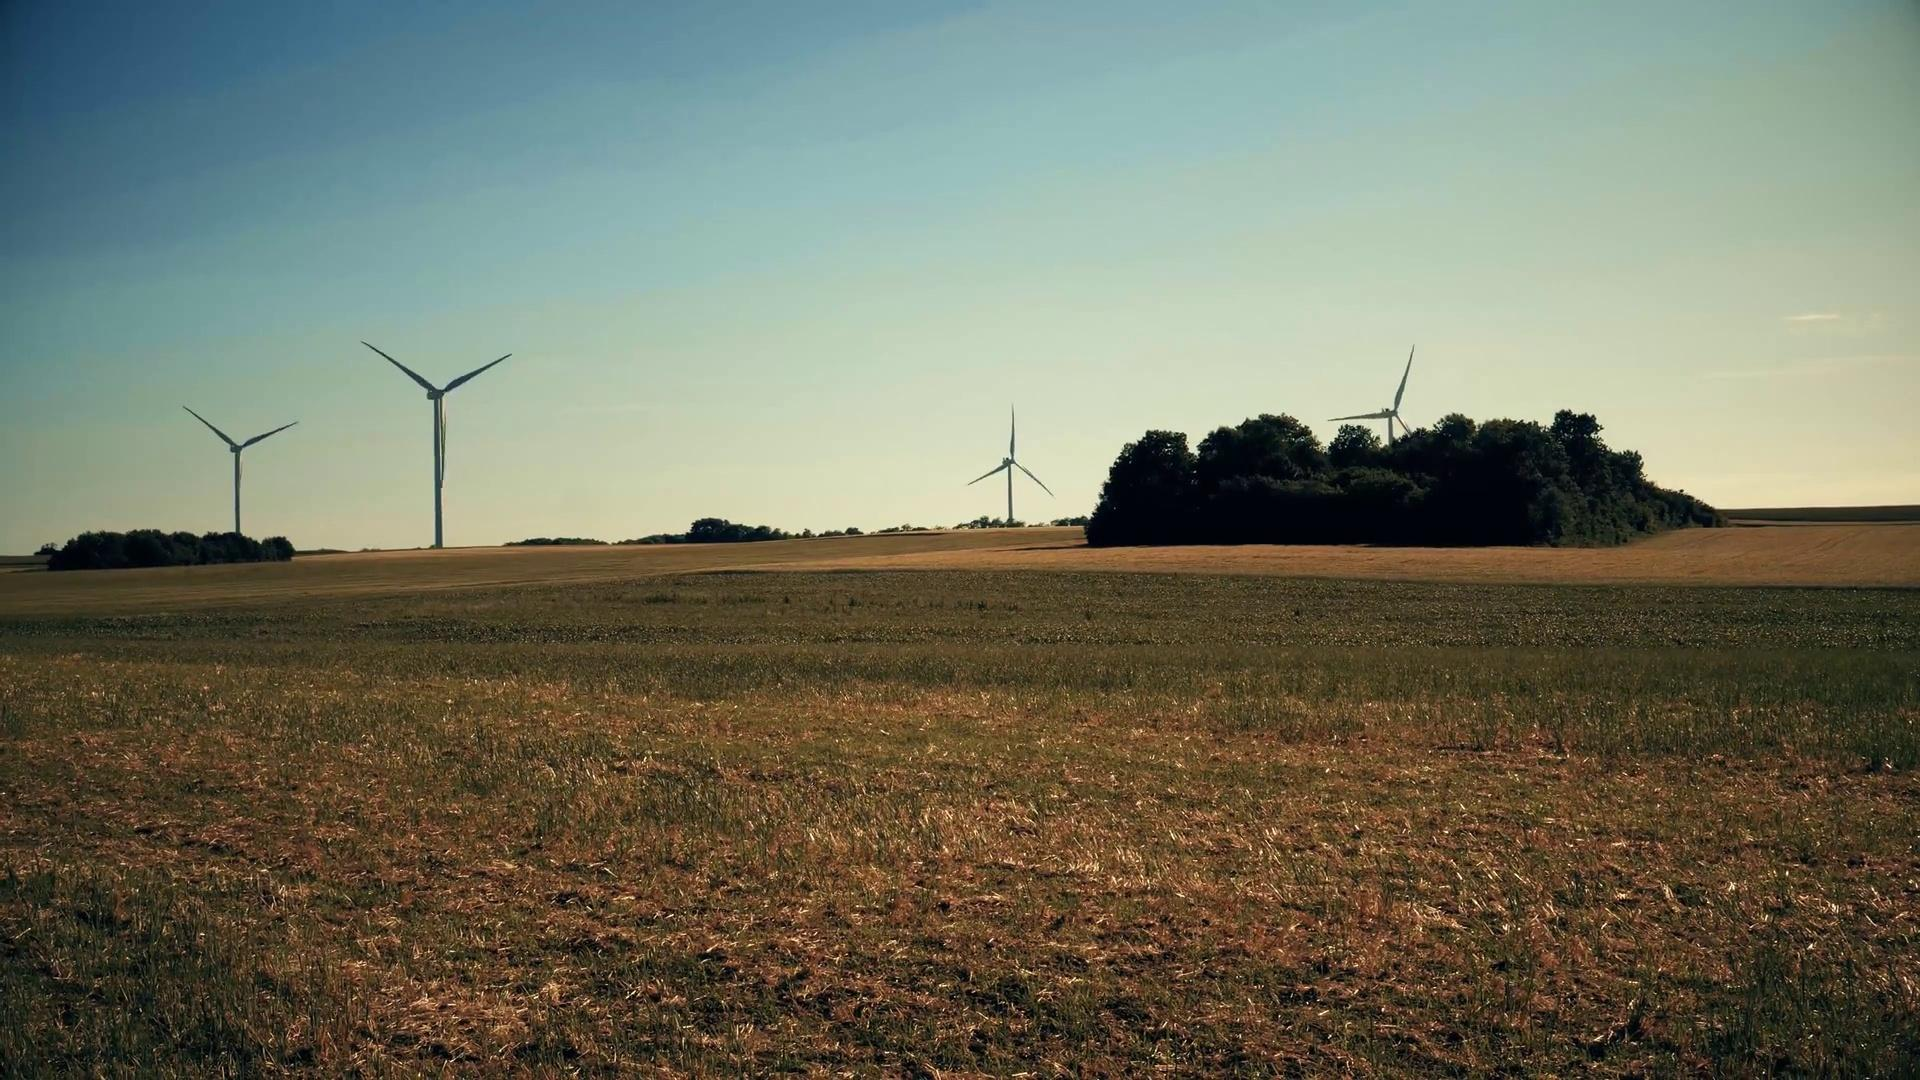turbine: (352, 294, 521, 564), (1324, 345, 1464, 547), (189, 375, 320, 558), (960, 410, 1058, 539)
